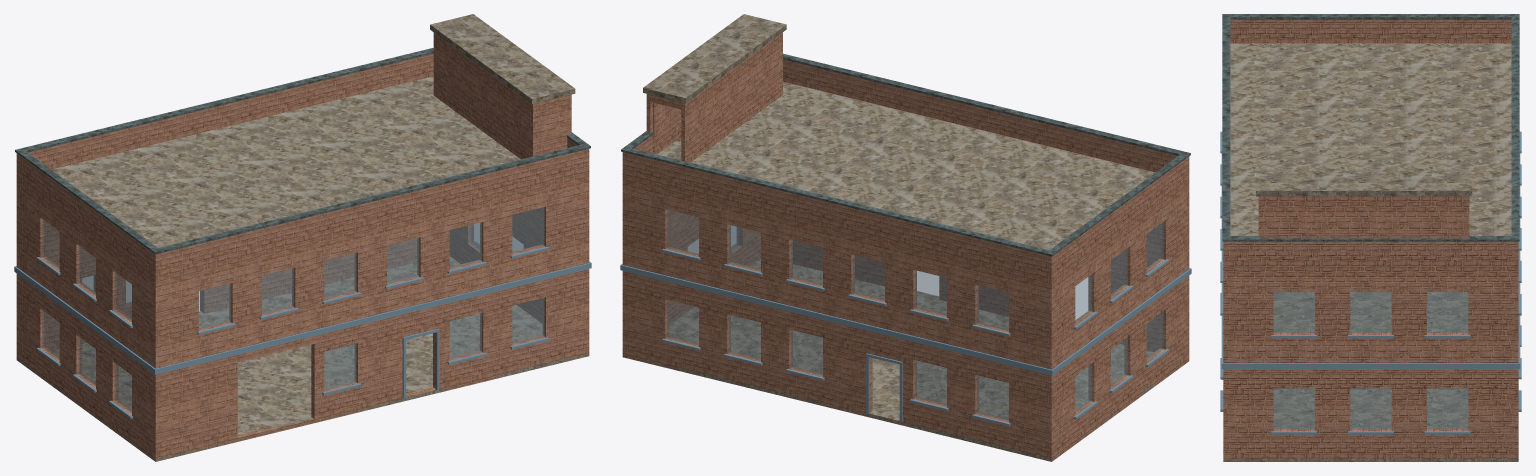
The model's file is ew-workshop.works-v1.lod1.glb.
3 renders of one model, left to right at view 1: azimuth 30°, elevation 25°; view 2: azimuth 150°, elevation 25°; view 3: azimuth 270°, elevation 25°, orthographic. The views are drawn at different scales.
Parts seen in each view (by area): view 1: ew-workshop; view 2: ew-workshop; view 3: ew-workshop.
Boxes of the visible parts, x1=… form: ew-workshop: x1=14, y1=14, x2=591, y2=461; ew-workshop: x1=620, y1=14, x2=1191, y2=461; ew-workshop: x1=1220, y1=14, x2=1521, y2=461.
Size of the model in its own units: 18.2 by 10.15 by 10.2.
4 materials, 2 textured.
